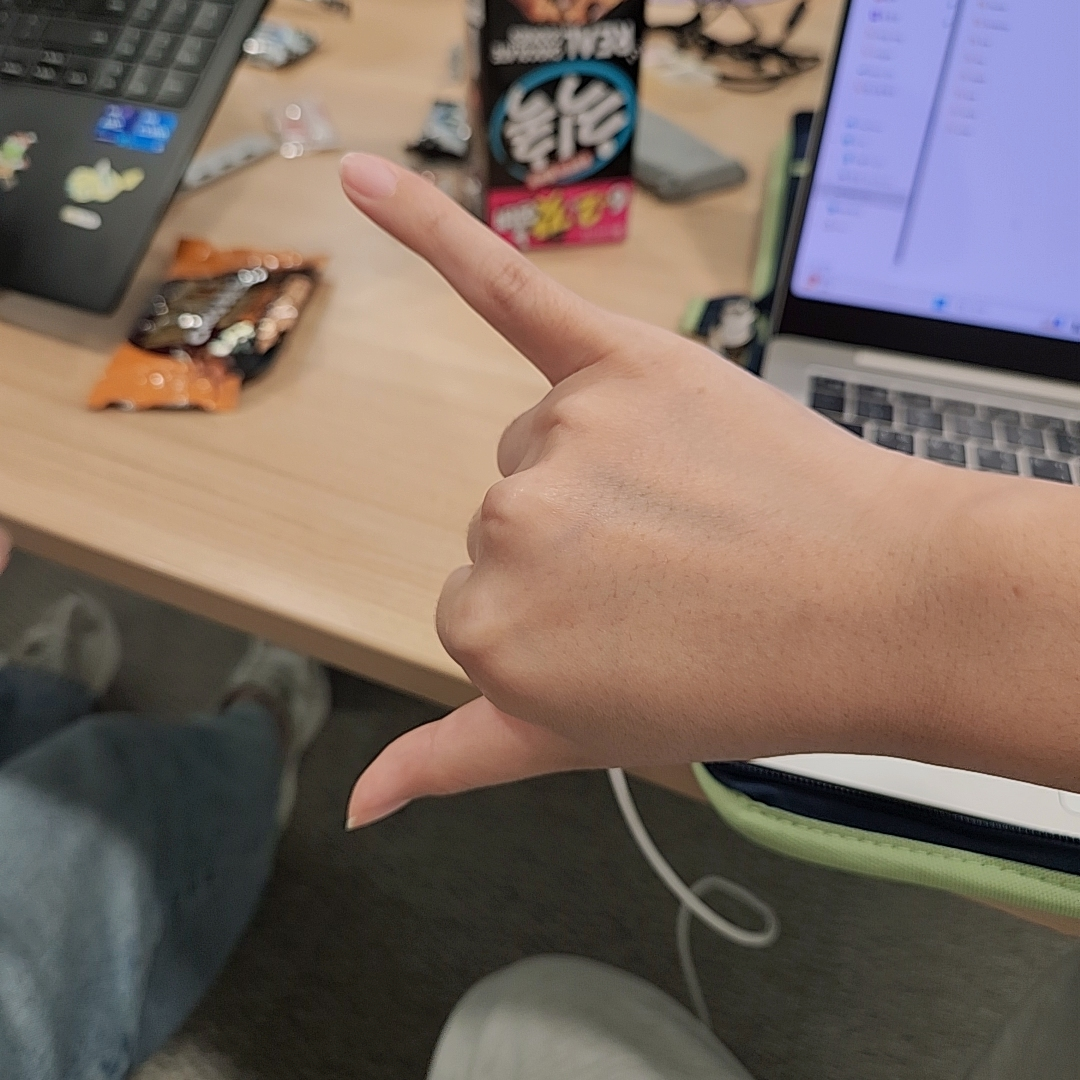call: (336, 152, 814, 830)
